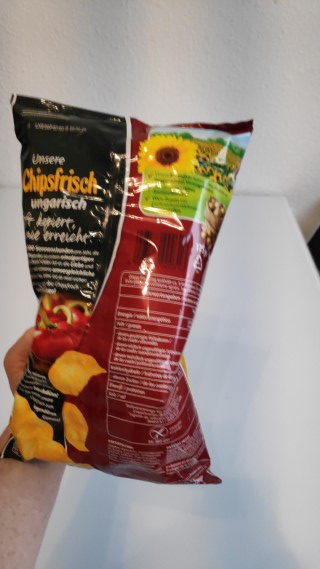chipsfrisch: (1, 94, 255, 487)
